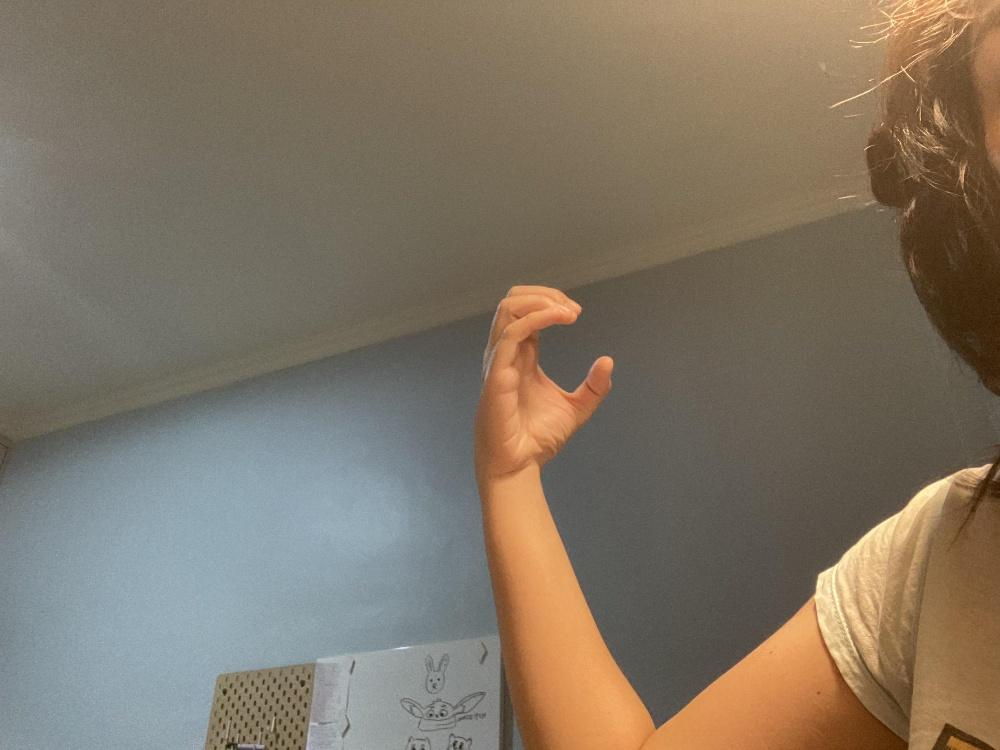c: (472, 283, 612, 476)
